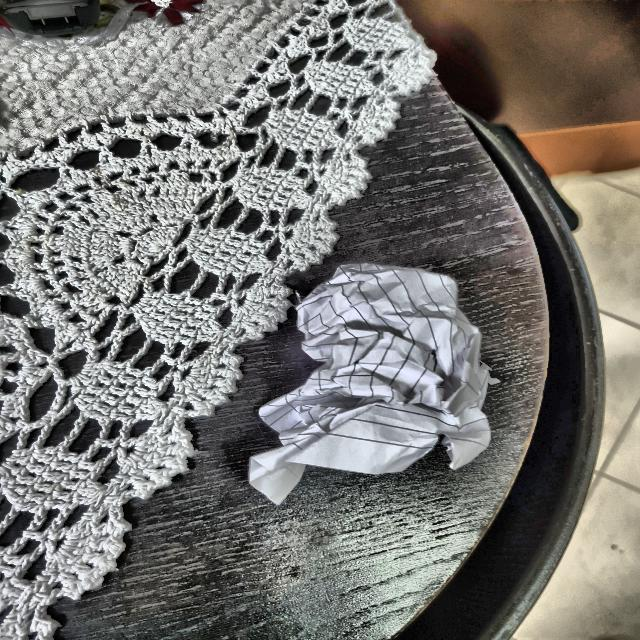Paper: (252, 261, 507, 497)
